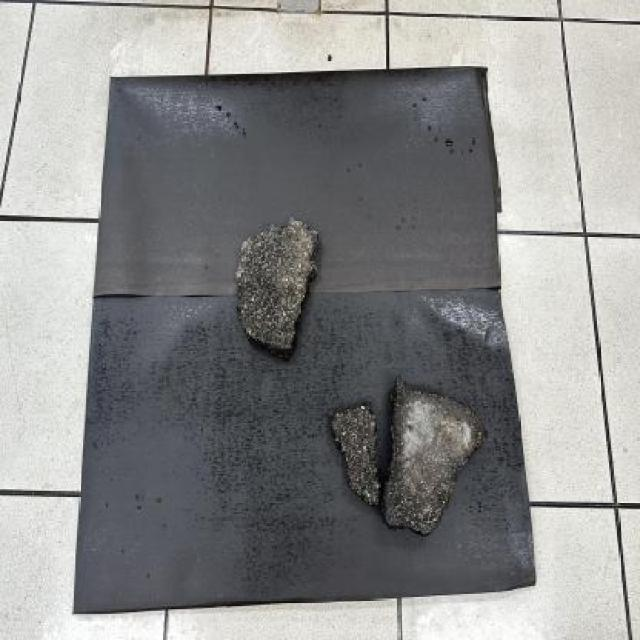Road Debris: (212, 310, 314, 412), (82, 510, 144, 615), (104, 445, 176, 507)
